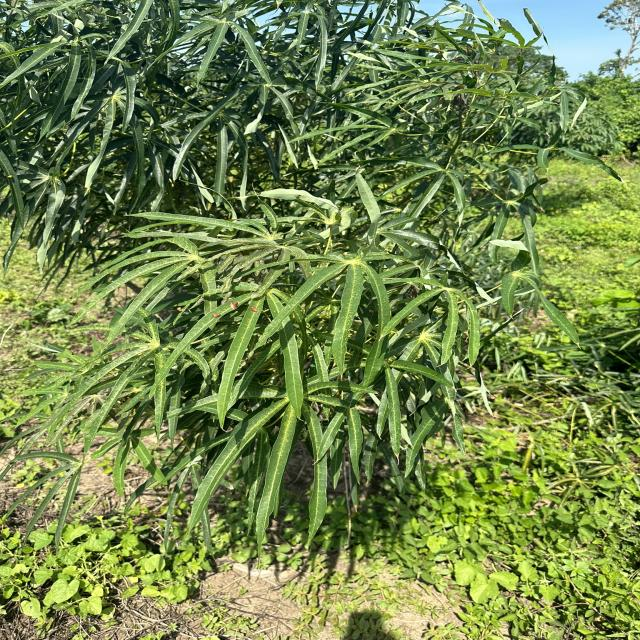Maleza: (445, 443, 640, 640), (6, 525, 195, 607), (555, 176, 640, 292)
Mosca: (226, 295, 244, 314), (210, 305, 226, 323), (249, 300, 265, 316)
